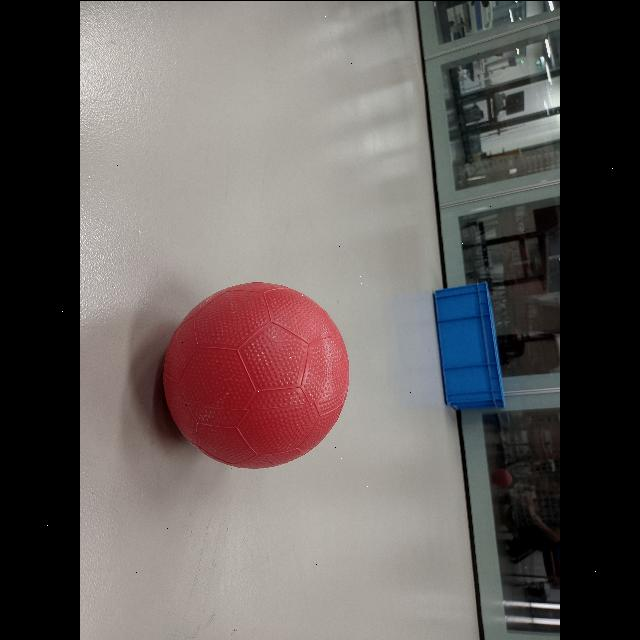R: (155, 278, 357, 472)
